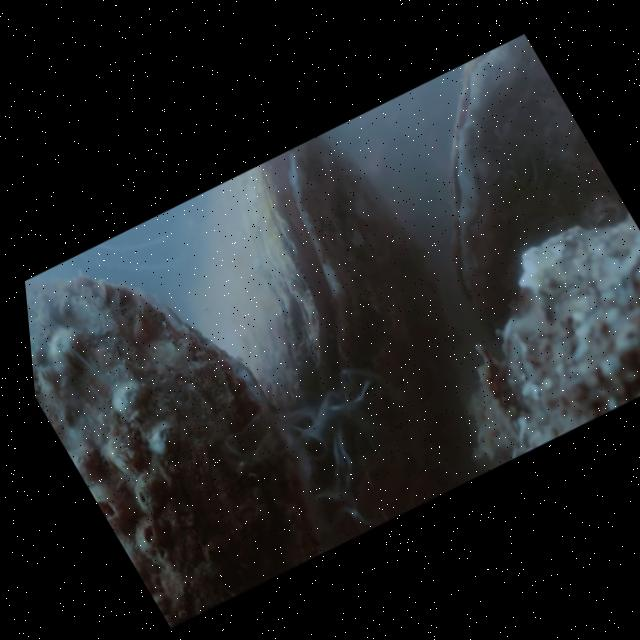Oyster-Closed: (211, 137, 452, 547), (26, 275, 302, 624), (447, 36, 605, 322)
